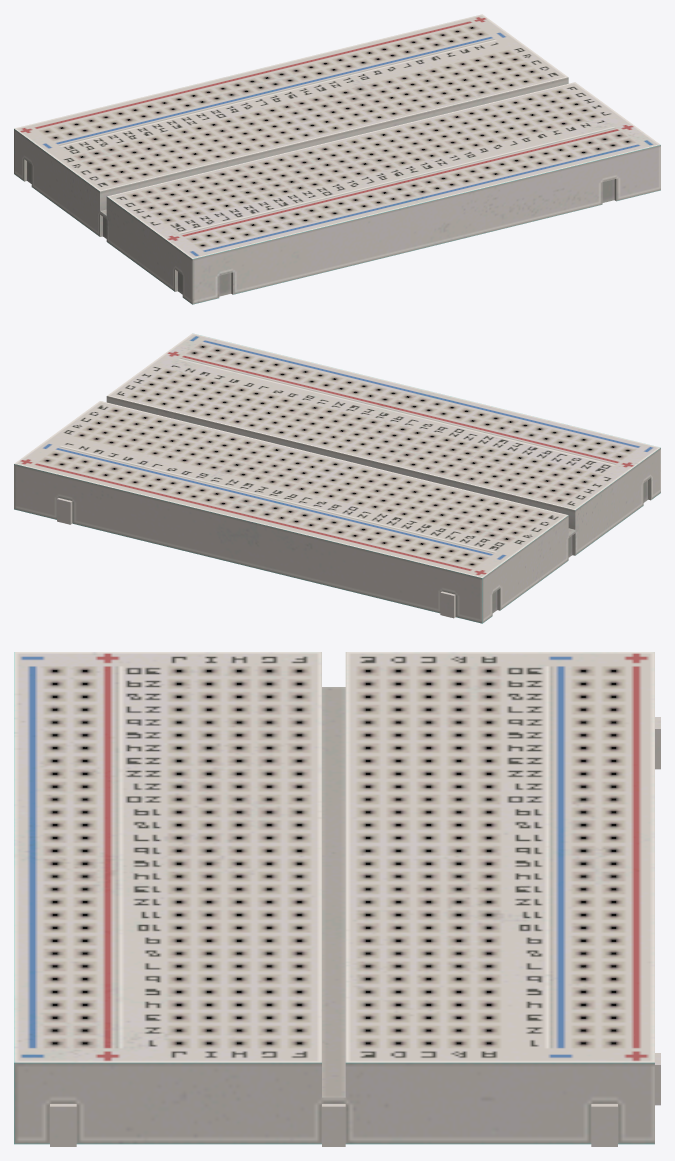
File: BreadBoard.obj
3 views of the same model, one above another, from view 1: azimuth 30°, elevation 25°; view 2: azimuth 150°, elevation 25°; view 3: azimuth 270°, elevation 25° (orthographic). The views are drawn at different scales.
Parts seen in each view (by area): view 1: Breadboard; view 2: Breadboard; view 3: Breadboard.
Boxes of the visible parts, box(x1,y1,x2,y2) form: Breadboard: box(14, 14, 660, 304); Breadboard: box(14, 333, 660, 623); Breadboard: box(14, 652, 660, 1146).
Bounding box in the file's own units: 0.0805 × 0.00744 × 0.0533.
